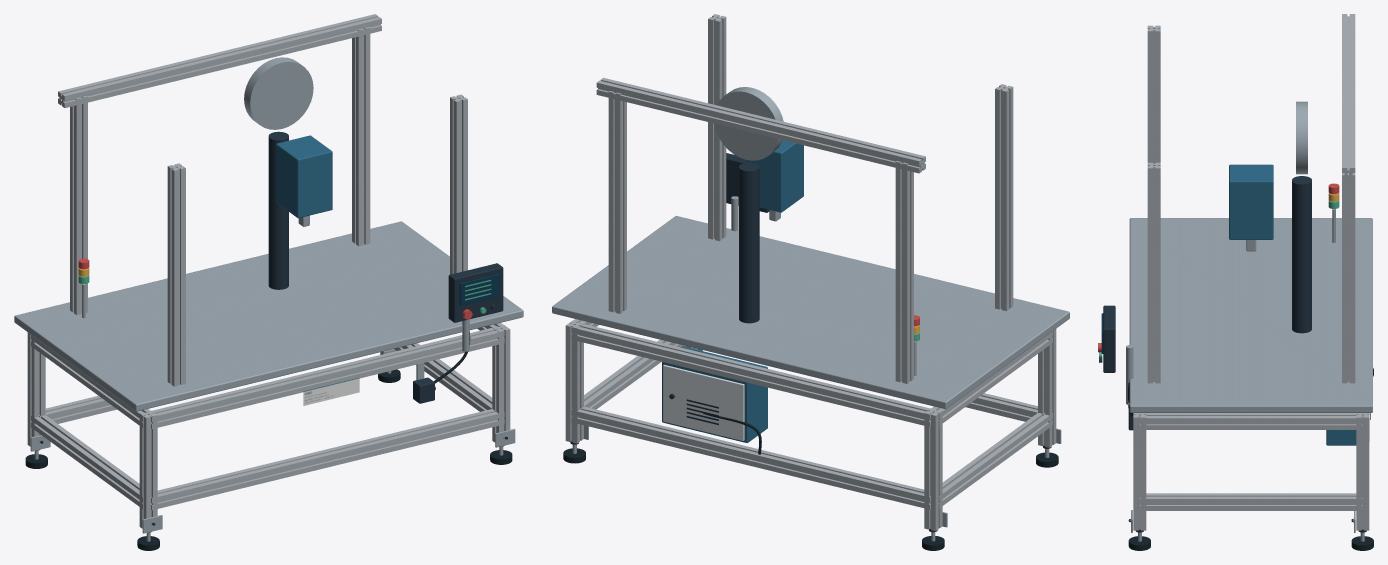
File: carton-stitcher.glb
The picture shows the model from 3 angles, left to right: view 1: azimuth 30°, elevation 25°; view 2: azimuth 150°, elevation 25°; view 3: azimuth 270°, elevation 25°; orthographic projection. The views are drawn at different scales.
Parts seen in each view (by area): view 1: Worktop_49, Extrusion_34, Extrusion_35, Extrusion_54, Extrusion_51, WireDriver_55, Extrusion_52, WireReel_57, Extrusion_50, Extrusion_53, Extrusion_36, StitcherThroat_58 (+9 smaller); view 2: Worktop_49, Extrusion_33, Extrusion_32, Extrusion_54, BackAccessDoor_41, Extrusion_51, Extrusion_52, Extrusion_50, Extrusion_53, StitcherThroat_58, WireReel_57, WireDriver_55 (+9 smaller); view 3: Worktop_49, Extrusion_38, Extrusion_39, WireDriver_55, StitcherThroat_58, Extrusion_53, Extrusion_52, Extrusion_54, Extrusion_51, Extrusion_19, Extrusion_27, WireReel_57 (+2 smaller).
Boxes of the visible parts, <box> form: Worktop_49: <box>14,221,523,411</box>; Extrusion_34: <box>151,409,504,510</box>; Extrusion_35: <box>145,326,504,428</box>; Extrusion_54: <box>58,14,381,107</box>; Extrusion_51: <box>167,163,185,386</box>; WireDriver_55: <box>276,135,332,218</box>; Extrusion_52: <box>352,27,370,246</box>; WireReel_57: <box>244,57,313,129</box>; Extrusion_50: <box>70,96,87,314</box>; Extrusion_53: <box>450,94,467,274</box>; Extrusion_36: <box>31,415,143,509</box>; StitcherThroat_58: <box>268,131,288,289</box>; Worktop_49: <box>552,216,1069,409</box>; Extrusion_33: <box>571,322,936,426</box>; Extrusion_32: <box>571,406,930,509</box>; Extrusion_54: <box>596,77,925,173</box>; BackAccessDoor_41: <box>663,364,744,440</box>; Extrusion_51: <box>995,84,1013,311</box>; Extrusion_52: <box>608,91,626,313</box>; Extrusion_50: <box>895,161,913,383</box>; Extrusion_53: <box>708,14,726,241</box>; StitcherThroat_58: <box>739,162,759,323</box>; WireReel_57: <box>714,87,783,160</box>; WireDriver_55: <box>746,140,803,212</box>; Worktop_49: <box>1129,218,1372,412</box>; Extrusion_38: <box>1140,493,1362,510</box>; Extrusion_39: <box>1140,413,1362,429</box>; WireDriver_55: <box>1229,164,1273,239</box>; StitcherThroat_58: <box>1292,176,1311,333</box>; Extrusion_53: <box>1147,162,1160,383</box>; Extrusion_52: <box>1342,177,1355,383</box>; Extrusion_54: <box>1342,14,1355,179</box>; Extrusion_51: <box>1147,25,1160,163</box>; Extrusion_19: <box>1356,413,1369,530</box>; Extrusion_27: <box>1133,413,1146,530</box>; WireReel_57: <box>1296,101,1307,174</box>.
Size of the model in its own units: 2.2 by 2.03 by 1.36.
Materials: 11 (3 with a texture image).
